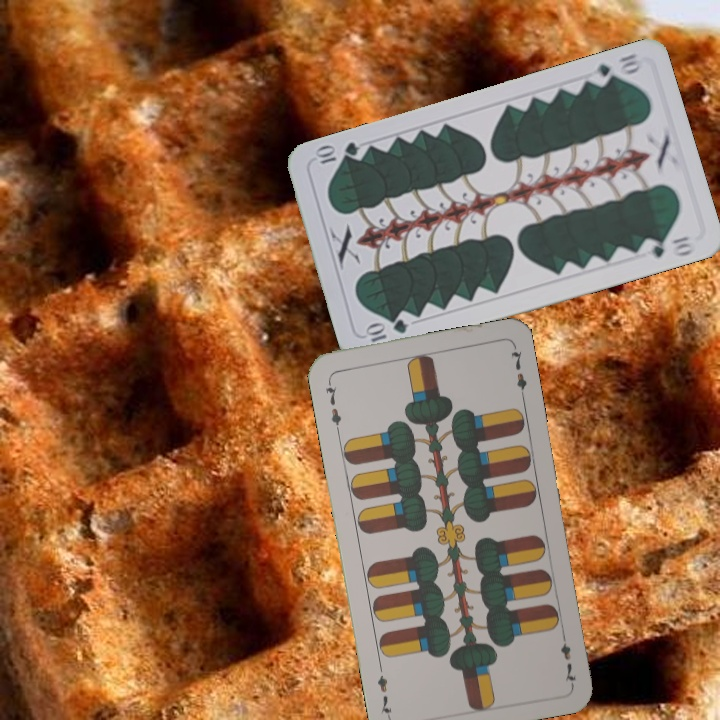E7: (321, 375, 344, 434), (556, 628, 579, 687)
G10: (585, 50, 643, 89), (361, 315, 410, 345)
